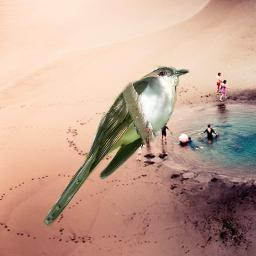Cuckoo: (42, 65, 190, 230)
